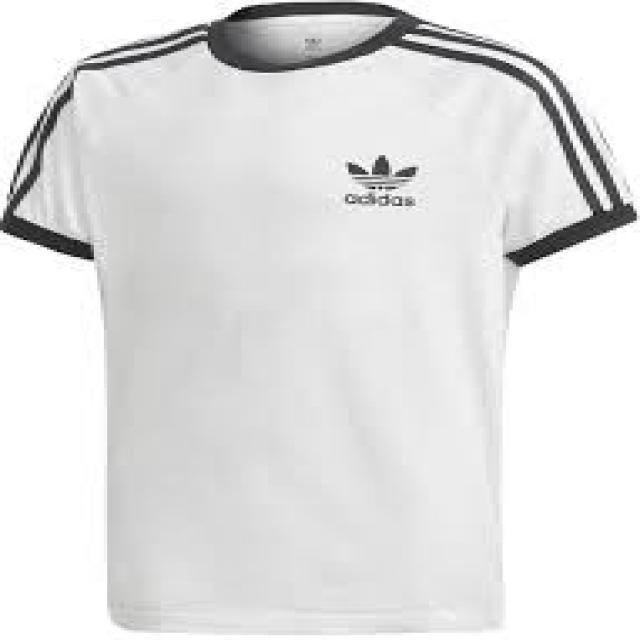Adidas: (343, 149, 422, 214)
